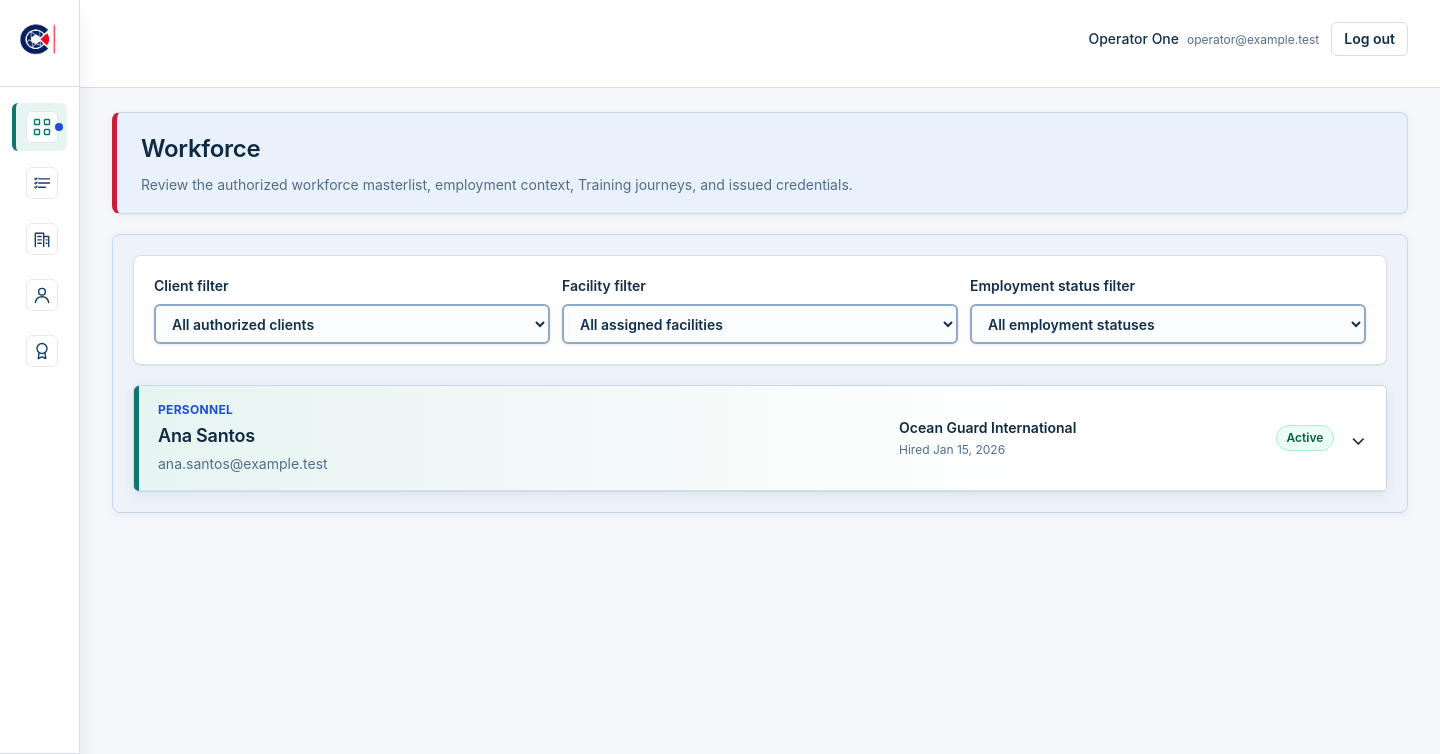
Test case: Registration Facility Assignment frontend › renders safe Facility Assignment errors for 403
Click the button "Ana Santos" at x=196, y=410, box [138,386,1386,491]
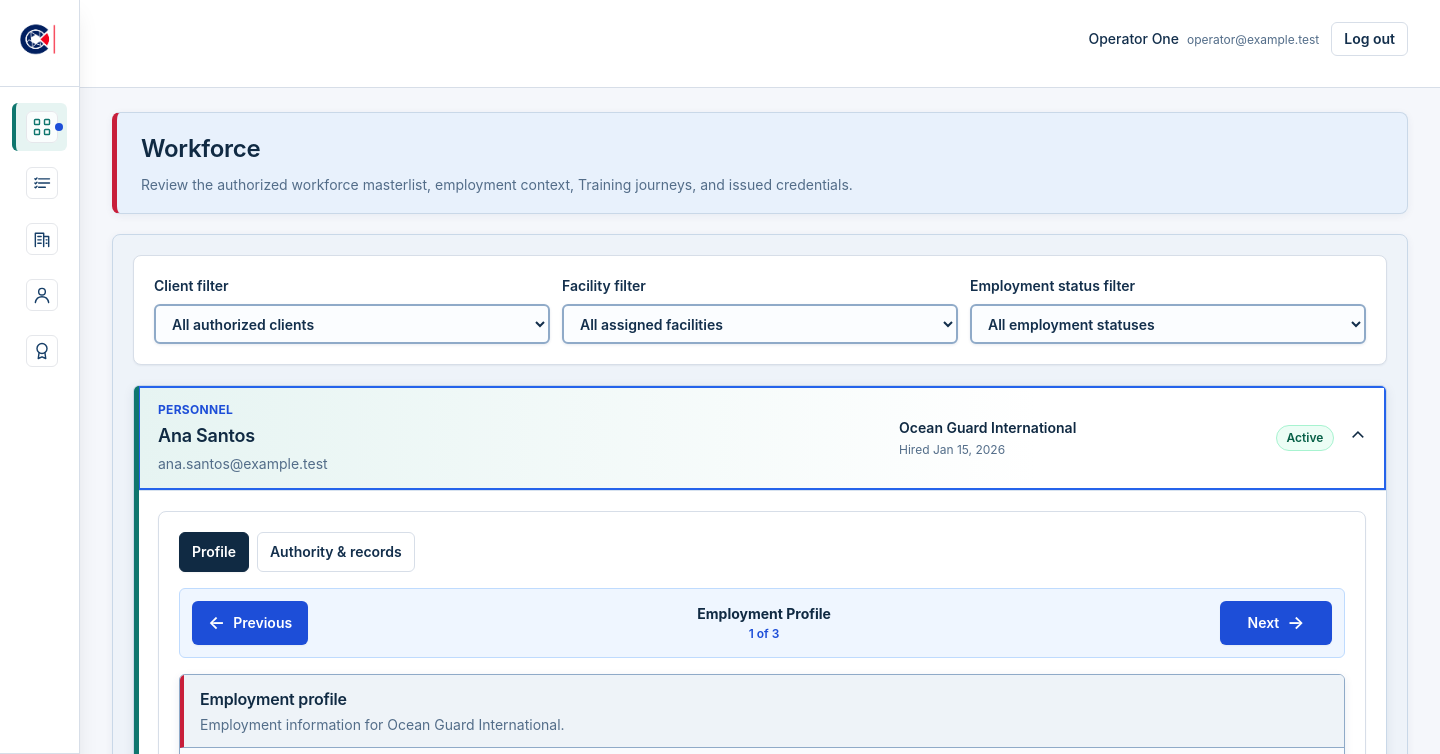
Click the button with aria-label "Next Profile card" at x=1276, y=623, box [1220,601,1332,645]
(page scrolled)
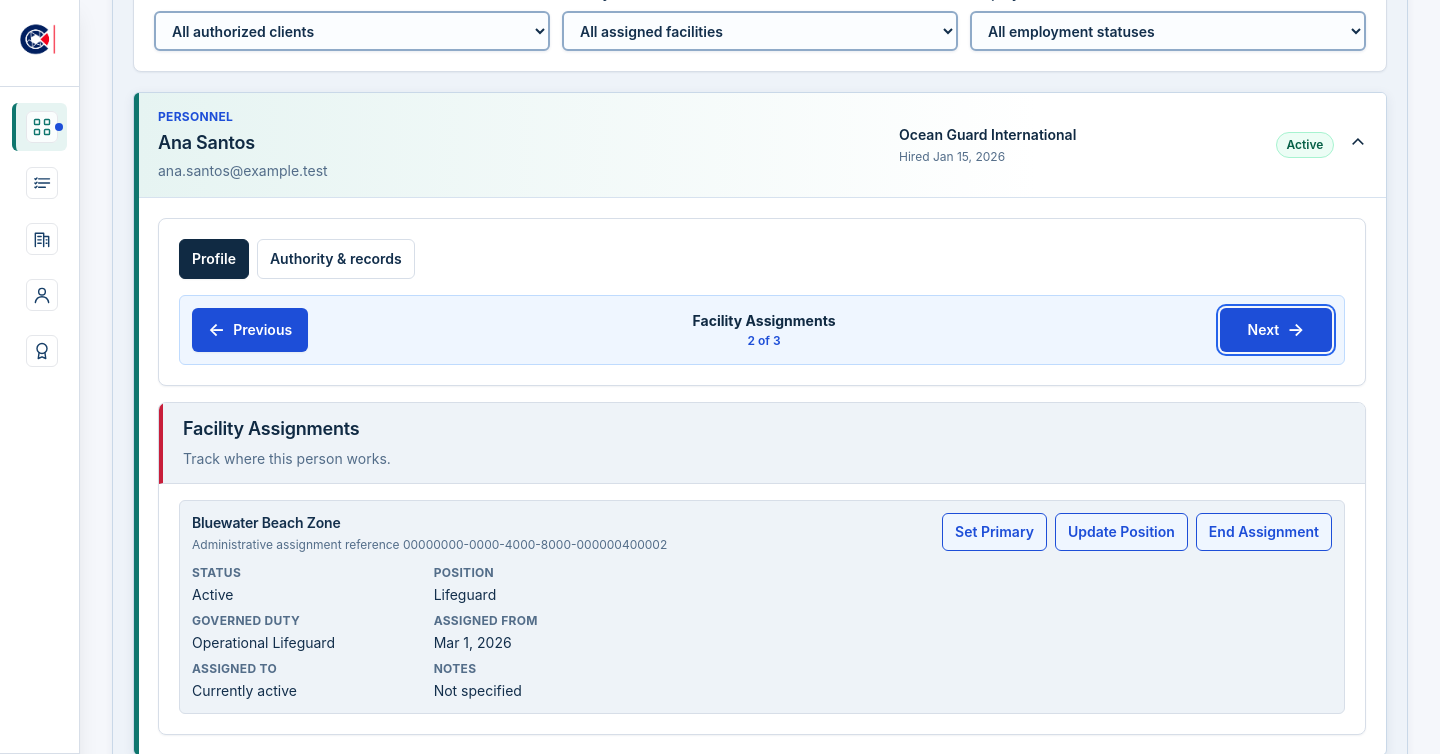
Click the button "Set Primary" at x=994, y=532, box [942,513,1047,551]
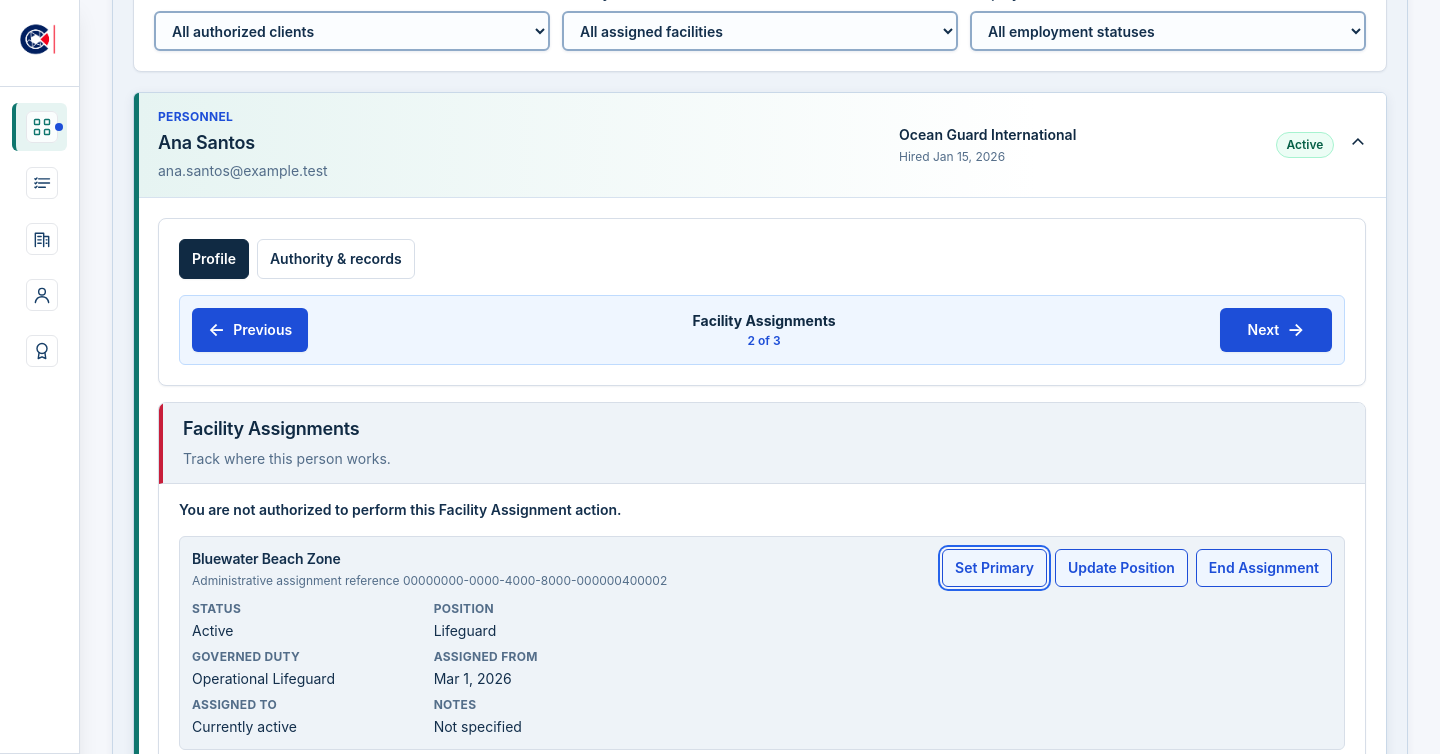
Check: the message reads "You are not authorized to perform this Facility Assignment action.", box [179,501,622,518]
